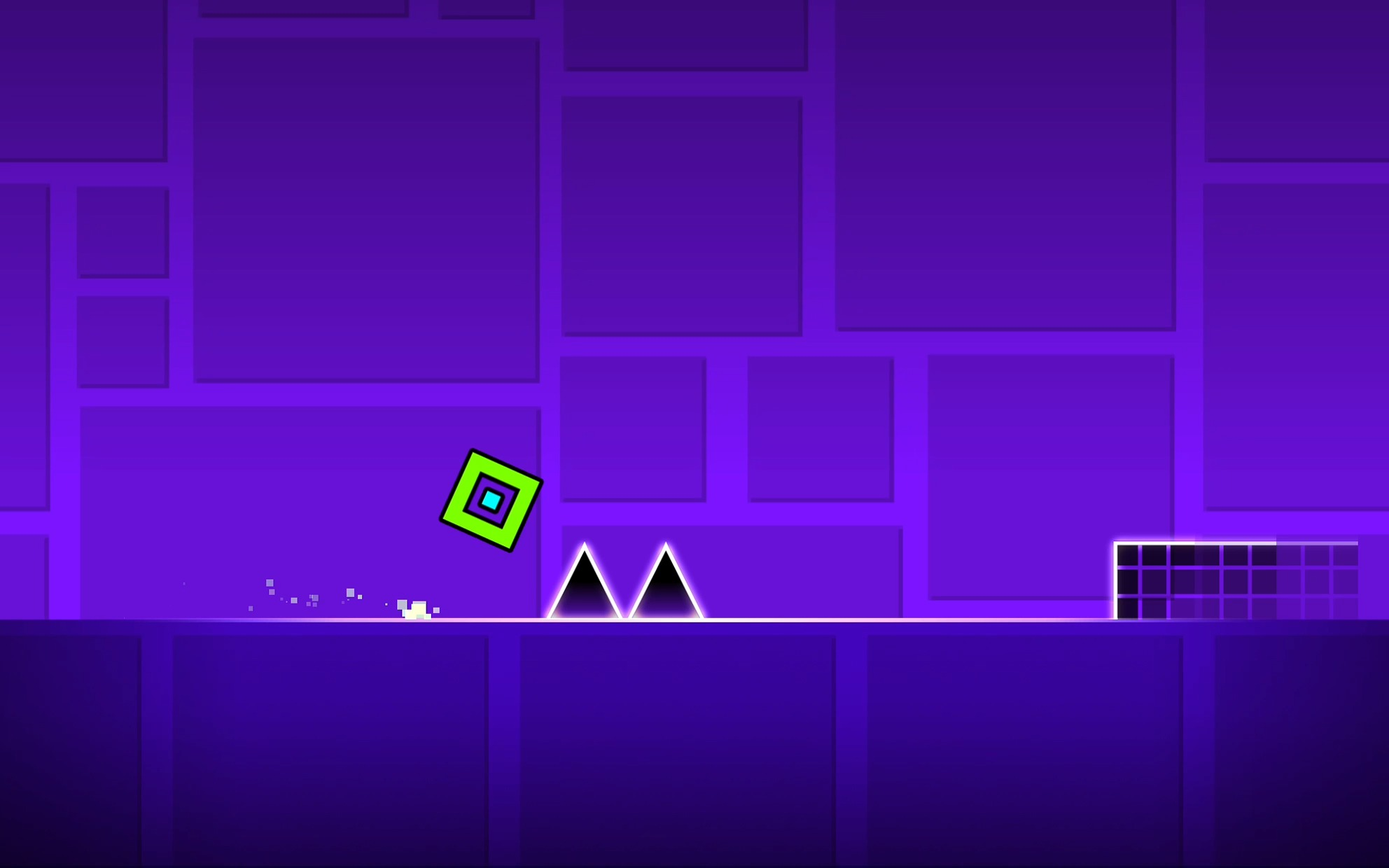Block2: (1114, 542, 1364, 621)
Player: (438, 448, 540, 550)
Spike: (547, 542, 623, 618), (627, 542, 702, 618)
